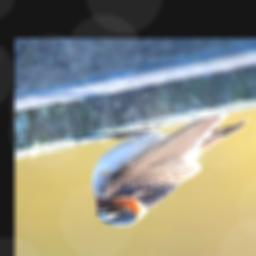Swallow: (90, 109, 249, 227)
